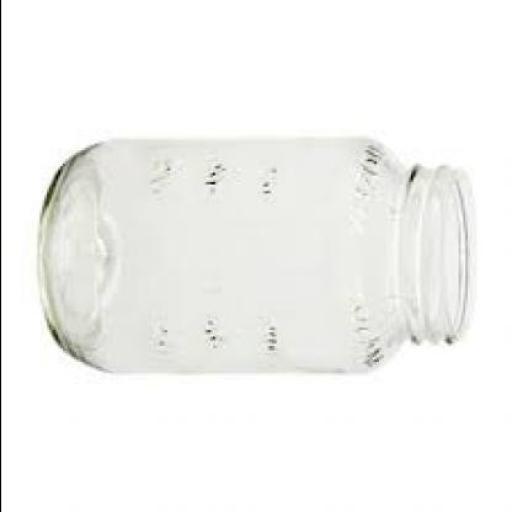glass: (41, 136, 476, 376)
